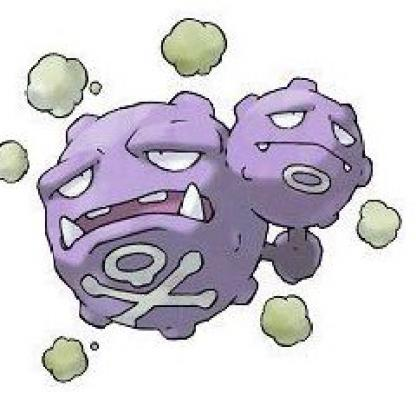Weezing: (35, 81, 384, 338)
